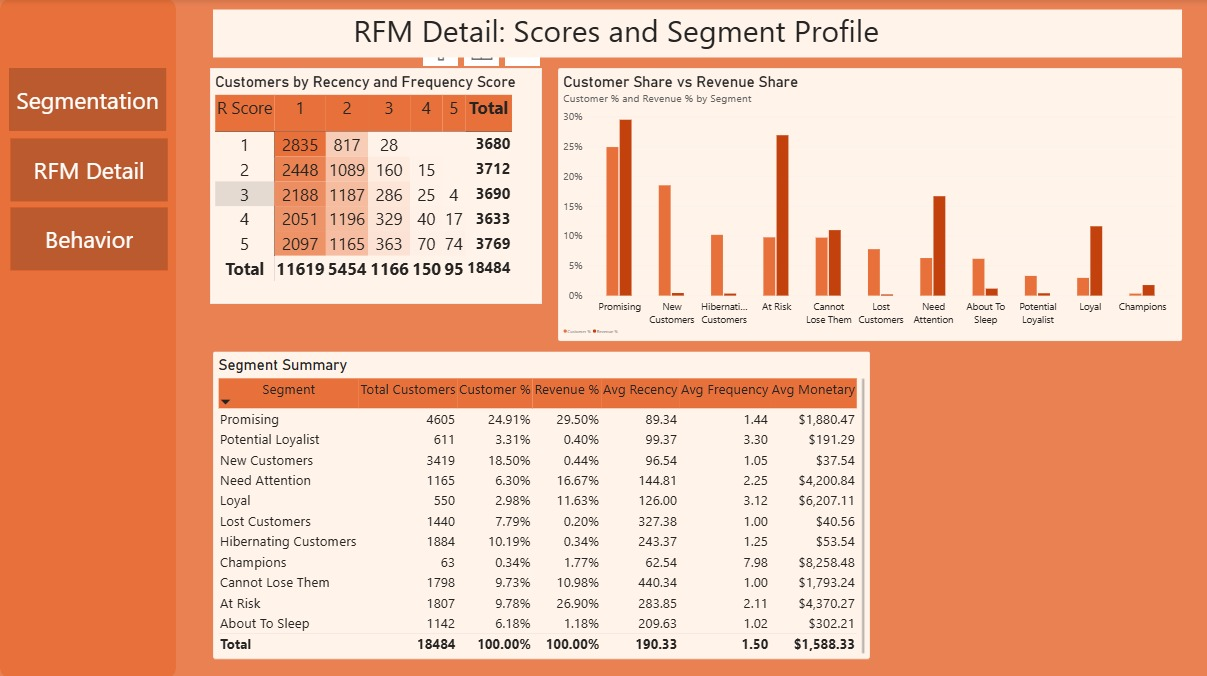

The dashboard page shown, as its layout file describes it:
{"tool":"powerbi","page":{"name":"RFM Detail","canvas":[3840,2160],"ordinal":1},"visuals":[{"type":"shape","box":[0,0,560,2160],"z":0},{"type":"pivotTable","title":"Customers by Recency and Frequency Score","fields":{"Columns":["RFM.F Score"],"Rows":["RFM.R Score"],"Values":["RFM.Total Customers"]},"box":[668.1,219.5,1054.6,749.2],"z":1000},{"type":"tableEx","title":"Segment Summary","fields":{"Values":["RFM.Segment","RFM.Total Customers","RFM.Customer %","RFM.Revenue %","RFM.Avg Recency","RFM.Avg Frequency","RFM.Avg Monetary"]},"box":[677.6,1121.4,2090.1,978.2],"z":2000},{"type":"actionButton","box":[30,220,500,200],"z":3000},{"type":"actionButton","box":[35,445,500,200],"z":4000},{"type":"actionButton","box":[35,665,500,200],"z":5000},{"type":"textbox","box":[677.6,33.4,3082.6,152.7],"z":6000},{"type":"clusteredColumnChart","title":"Customer Share vs Revenue Share","fields":{"Category":["RFM.Segment"],"Y":["RFM.Customer %","RFM.Revenue %"]},"box":[1775.1,219.5,1985.1,868.5],"z":7000}]}

Visuals, with their boxes in screenshot pixels (x1, y1, x2, y2), scaled from the page's 3840x2160 canvas onto the 1207x676 screenshot:
shape: left=0, top=0, right=176, bottom=675
"Customers by Recency and Frequency Score" pivotTable: left=210, top=69, right=541, bottom=303
"Segment Summary" tableEx: left=213, top=351, right=870, bottom=657
actionButton: left=9, top=69, right=167, bottom=131
actionButton: left=11, top=139, right=168, bottom=202
actionButton: left=11, top=208, right=168, bottom=271
textbox: left=213, top=10, right=1182, bottom=58
"Customer Share vs Revenue Share" clusteredColumnChart: left=558, top=69, right=1182, bottom=341
